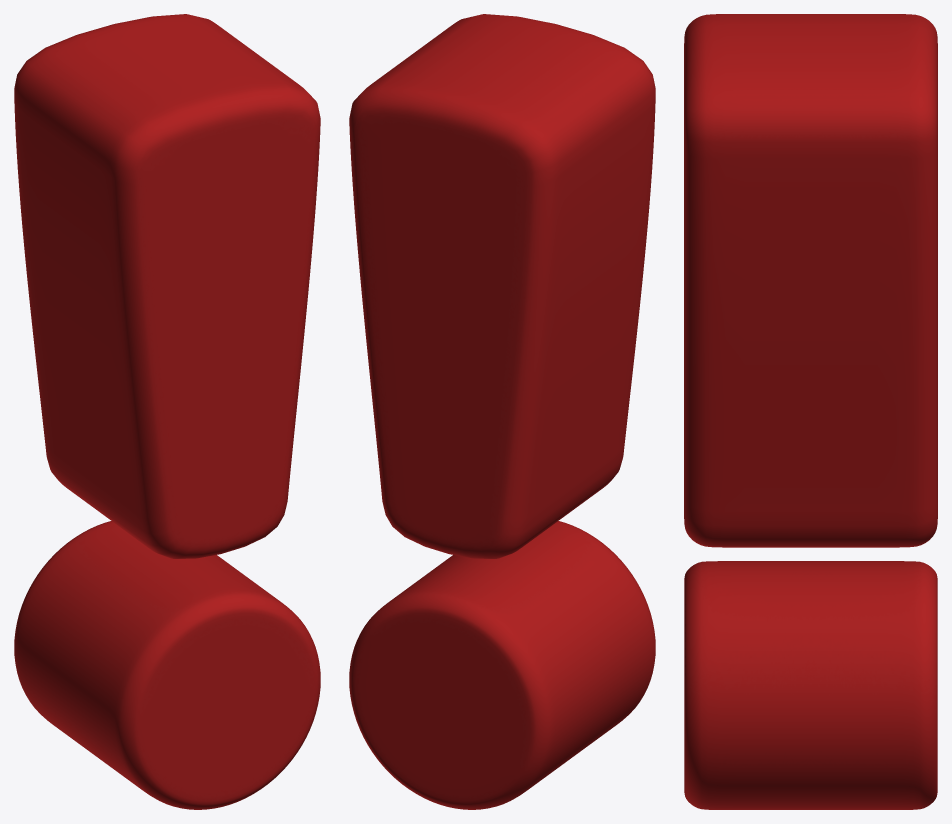
The model's file is mdl-exclamation-mark.glb.
The picture shows the model from 3 angles, left to right: view 1: azimuth 30°, elevation 25°; view 2: azimuth 150°, elevation 25°; view 3: azimuth 270°, elevation 25°; orthographic projection. The views are drawn at different scales.
Visible parts, largest first — view 1: node_id30; view 2: node_id30; view 3: node_id30.
Boxes of the visible parts, x1,y1,x2,y2 form: node_id30: (14,14,320,809); node_id30: (349,14,655,809); node_id30: (684,14,937,809).
Size of the model in its own units: 0.1554 by 0.512 by 0.1559.
Materials: 1 (1 with a texture image).
